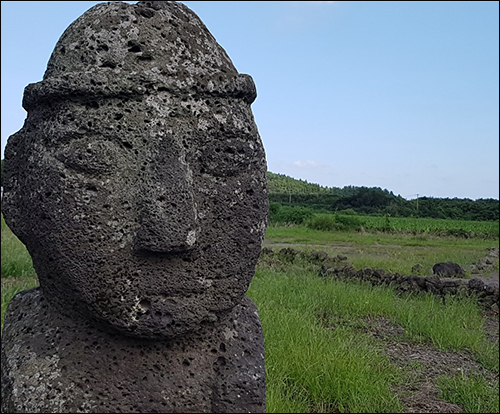Stone Statue: (0, 0, 301, 413)
